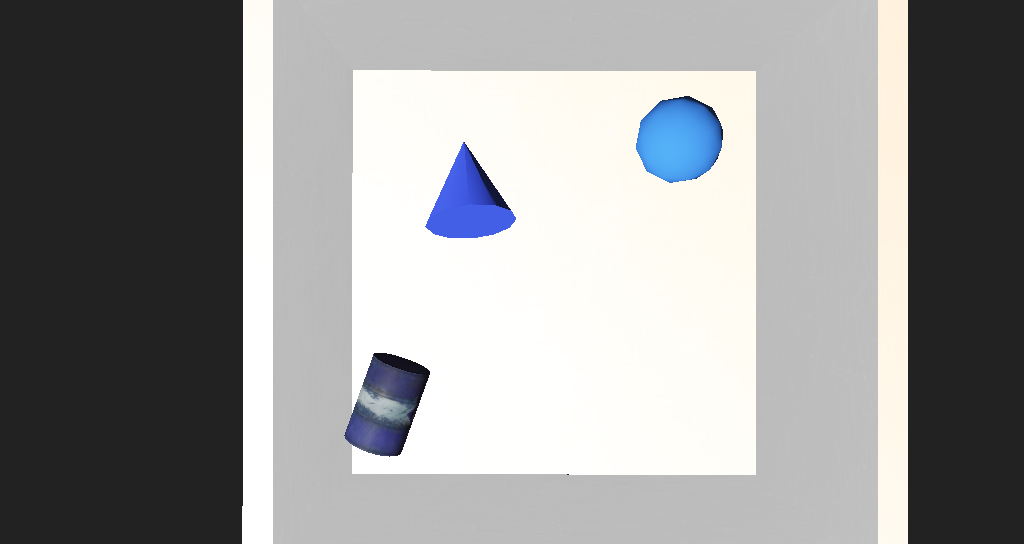cone: (347, 310, 421, 367)
cylinder: (387, 186, 488, 253)
sphere: (569, 179, 630, 222)
